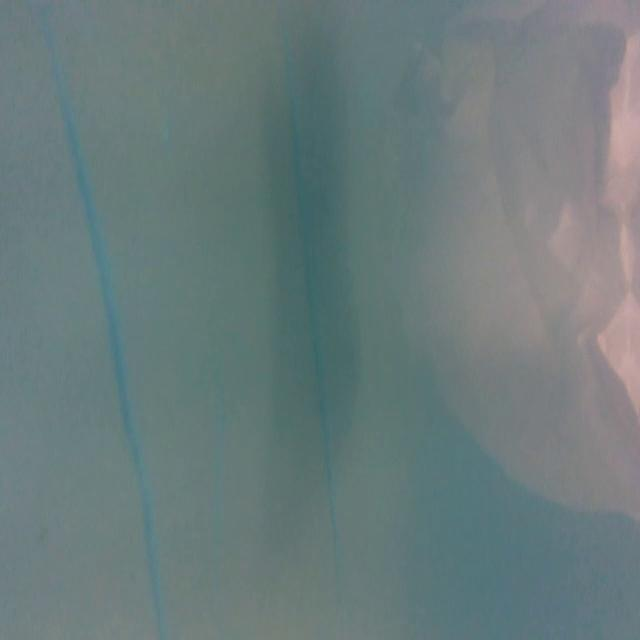plastic bags: (391, 3, 640, 516)
